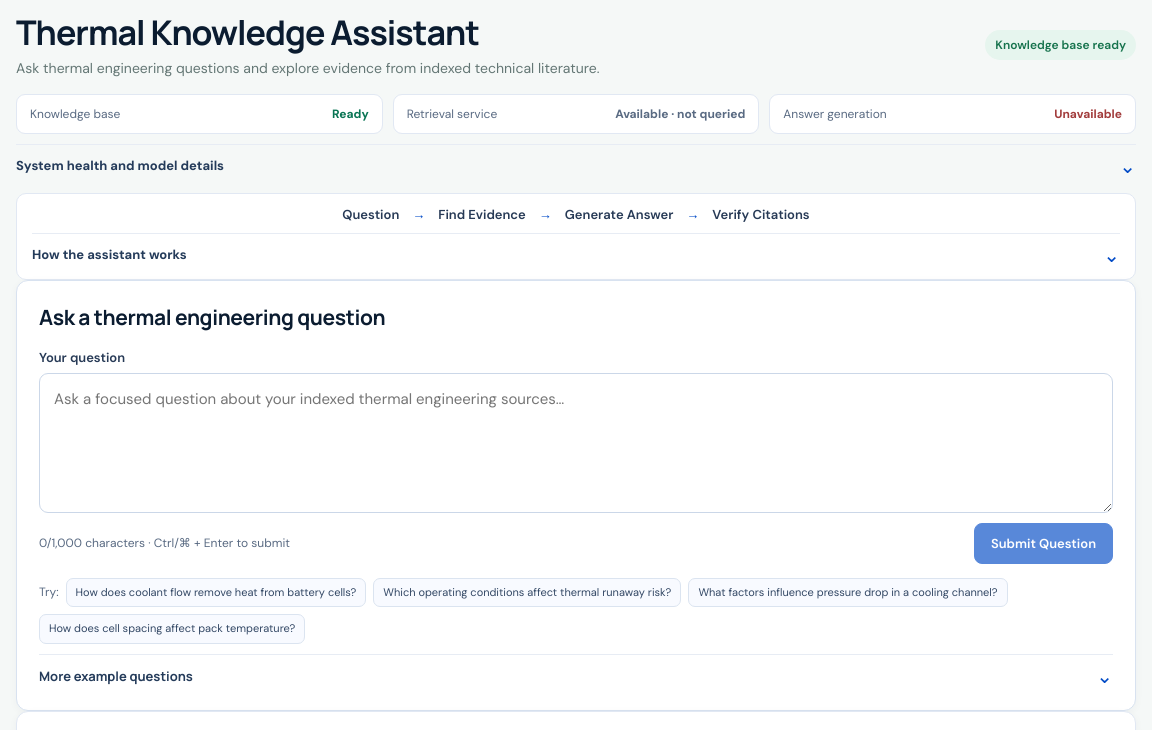
Test: ThermalKnowledgeAssistant (mocked API unit tests) › starts advanced sections collapsed and lets users select examples without submitting
Expected: the heading "Ask a thermal engineering question" is shown, [39,303,385,331]
Click the button "How does coolant flow remove heat from battery cells?" at (216, 592), box [66,578,366,607]
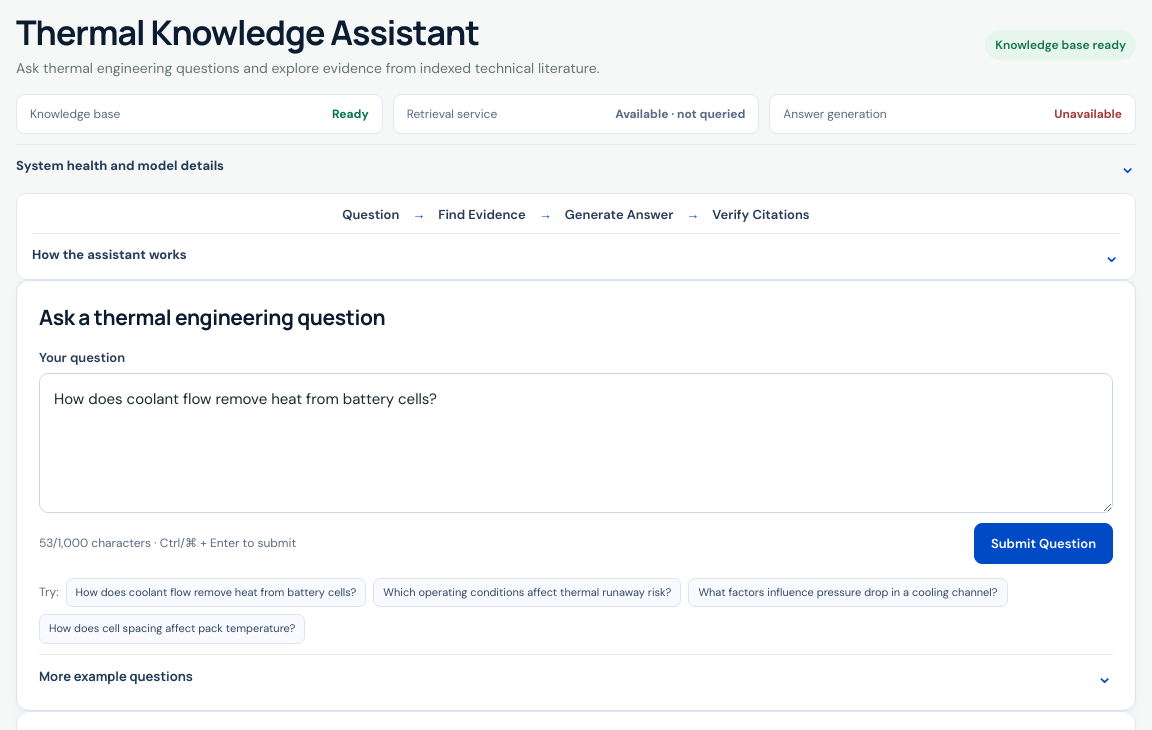
Expected: the text "53/1,000 characters · Ctrl/⌘ + Enter to submit" is shown, [39,534,296,553]
Result: the text box labelled "Your question" holds "How does coolant flow remove heat from battery cells?" at [39,373,1113,513]
